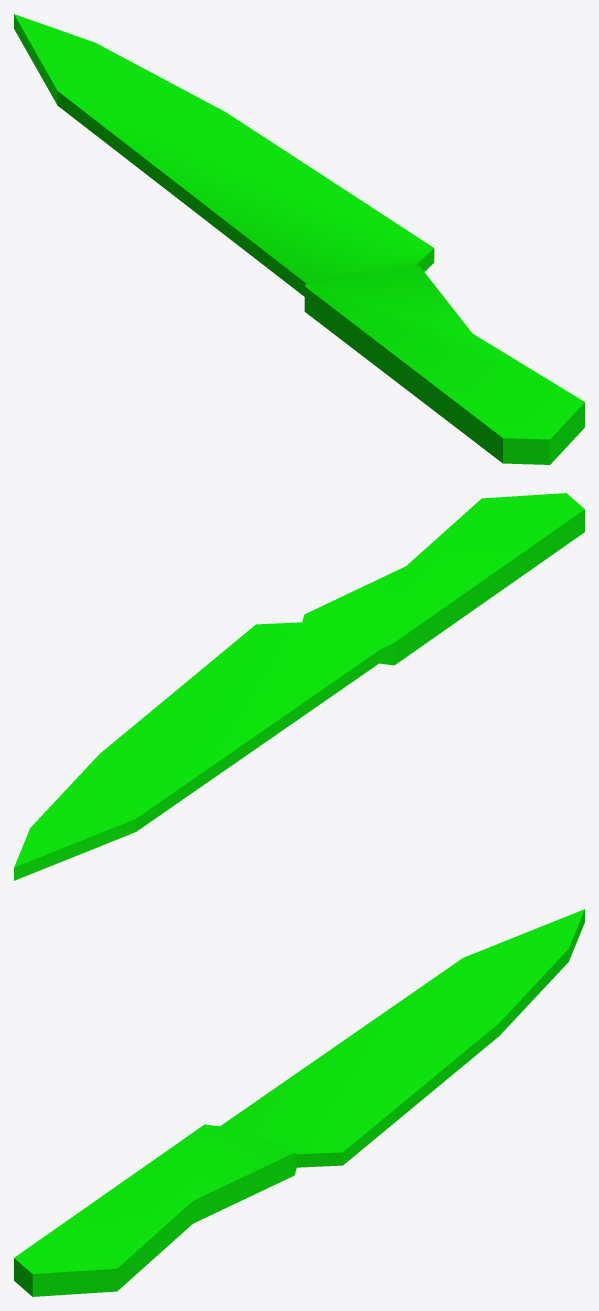
File: SM_Knife_02_Collider.fbx
3 views of the same model, one above another, from view 1: azimuth 30°, elevation 25°; view 2: azimuth 150°, elevation 25°; view 3: azimuth 330°, elevation 25° (orthographic). The views are drawn at different scales.
Parts seen in each view (by area): view 1: SM_Knife_02_Collider; view 2: SM_Knife_02_Collider; view 3: SM_Knife_02_Collider.
Boxes of the visible parts, x1,y1,x2,y2 form: SM_Knife_02_Collider: (14,14,584,464); SM_Knife_02_Collider: (14,493,584,880); SM_Knife_02_Collider: (14,909,584,1296).
Size of the model in its own units: 9.15 by 1.5 by 61.33.
